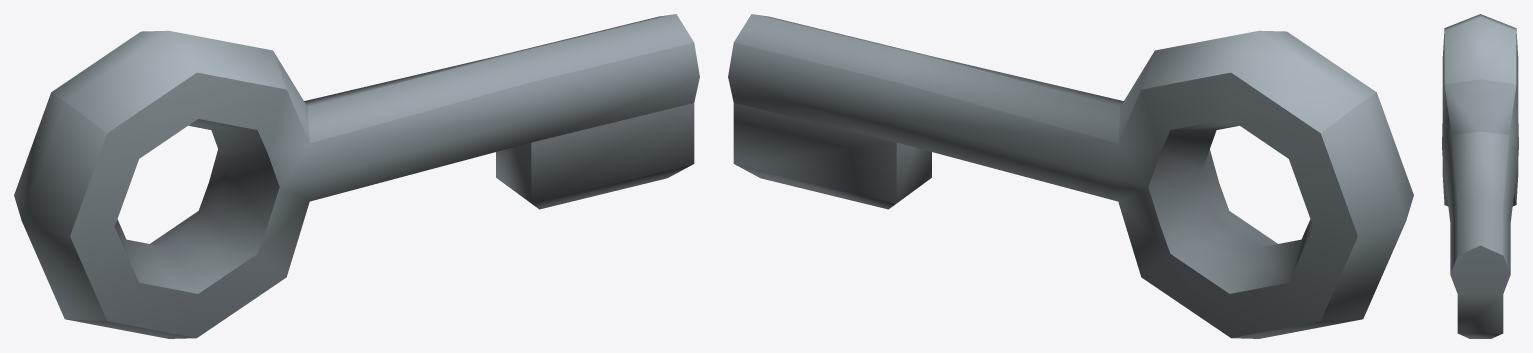
File: d_kaykit_cle.glb
3 views of the same model, side by side, from view 1: azimuth 30°, elevation 25°; view 2: azimuth 150°, elevation 25°; view 3: azimuth 270°, elevation 25° (orthographic). The views are drawn at different scales.
Visible parts, largest first — view 1: d_kaykit_cle; view 2: d_kaykit_cle; view 3: d_kaykit_cle.
Boxes of the visible parts, x1=… form: d_kaykit_cle: x1=14, y1=14, x2=699, y2=338; d_kaykit_cle: x1=728, y1=14, x2=1413, y2=338; d_kaykit_cle: x1=1442, y1=14, x2=1518, y2=338.
Bounding box in the file's own units: 0.8957 × 0.4028 × 0.1418.
Materials: 1 (1 with a texture image).
